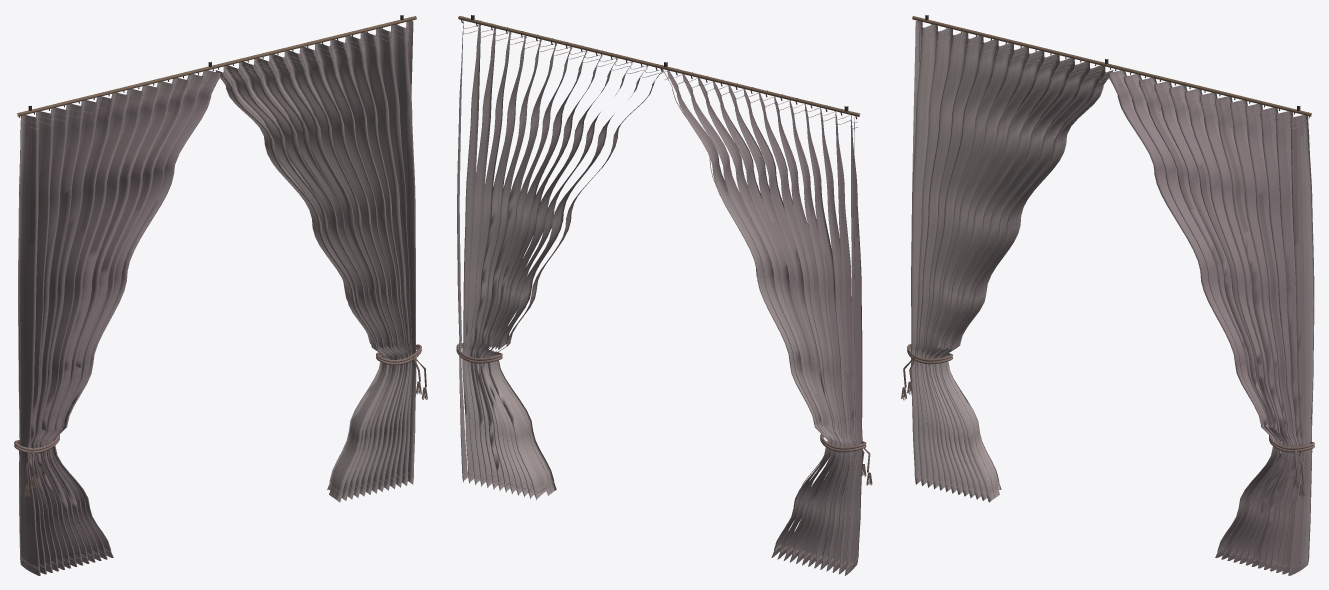
File: gathered.glb
3 renders of one model, left to right at view 1: azimuth 30°, elevation 25°; view 2: azimuth 150°, elevation 25°; view 3: azimuth 330°, elevation 25°, orthographic.
Visible parts, largest first — view 1: Surface; view 2: Surface; view 3: Surface.
Part boxes in pixels (x1=…): Surface: x1=14, y1=15, x2=427, y2=575; Surface: x1=456, y1=15, x2=872, y2=575; Surface: x1=901, y1=15, x2=1314, y2=575.
Bounding box in the file's own units: 4.72 × 5.16 × 0.3458.
